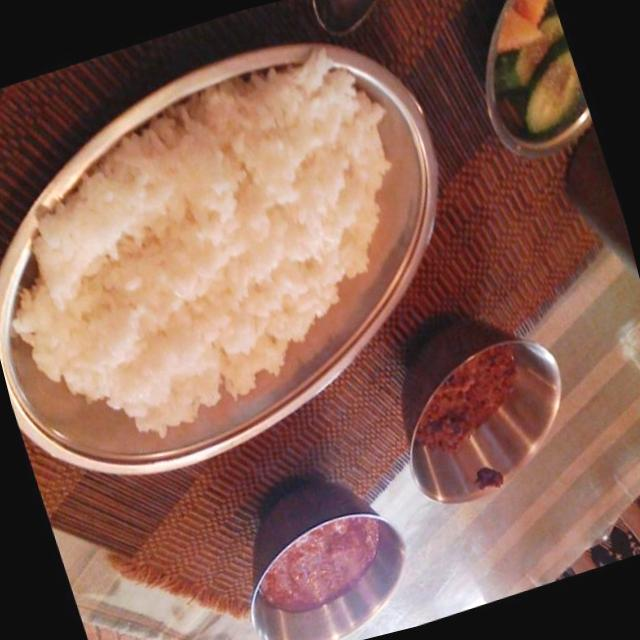Rice: (0, 6, 496, 513)
